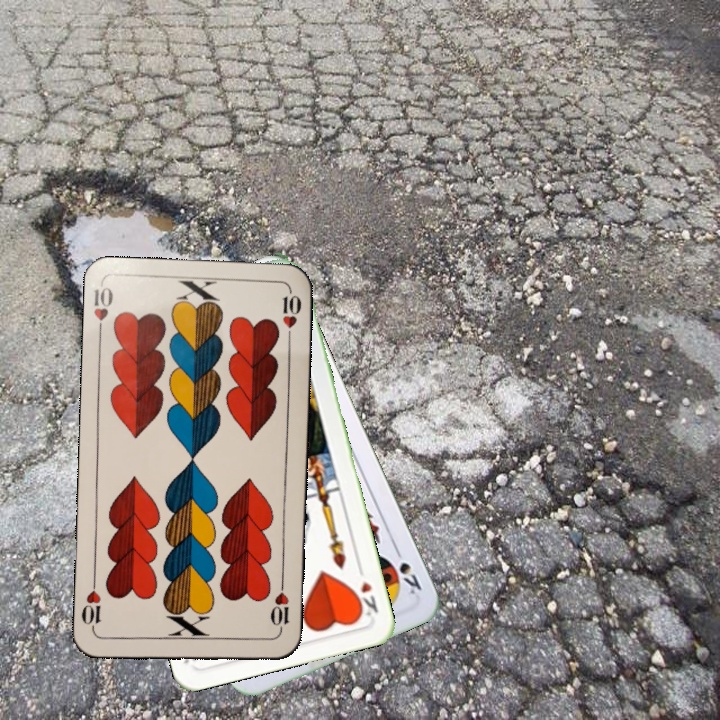H10: (90, 281, 116, 341), (266, 577, 292, 636)
HK: (353, 561, 381, 619)
SK: (384, 542, 425, 598)
